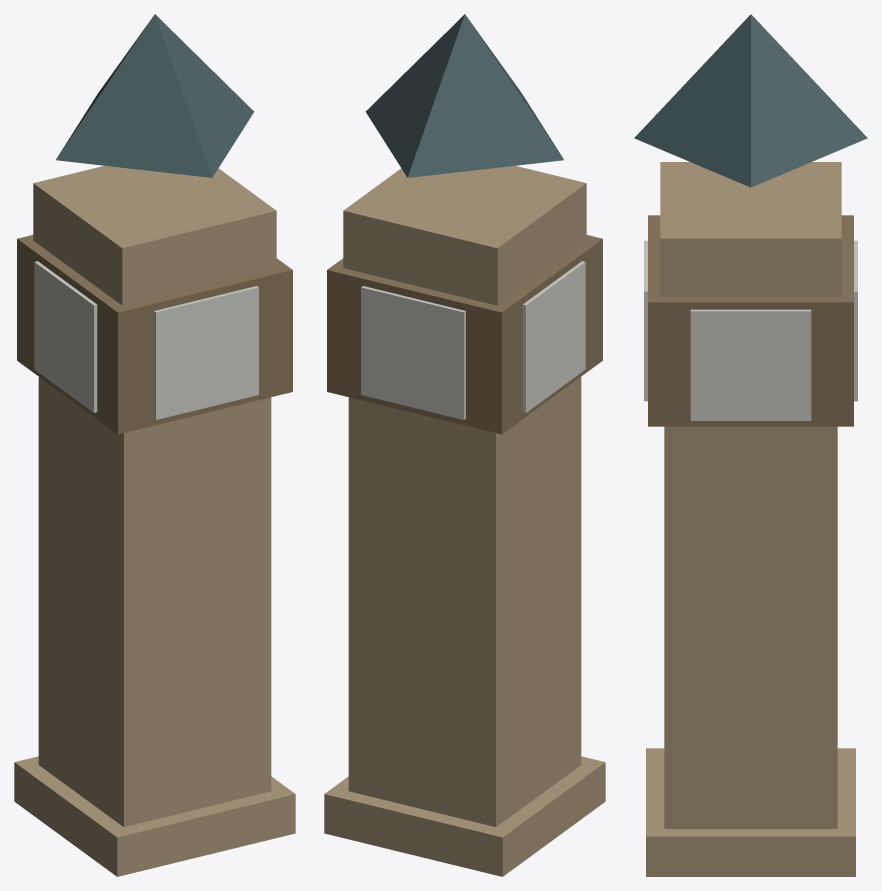
File: BigBen.glb
3 renders of one model, left to right at view 1: azimuth 30°, elevation 25°; view 2: azimuth 150°, elevation 25°; view 3: azimuth 270°, elevation 25°, orthographic.
Visible parts, largest first — view 1: Tower, Upper, Roof, ClockStage, Base, ClockFront, ClockLeft; view 2: Tower, Upper, Roof, ClockStage, Base, ClockBack, ClockLeft; view 3: Tower, Upper, Roof, ClockStage, ClockRight, Base, ClockFront, ClockBack.
Part boxes in pixels (bbox=[...]): Tower: bbox=[38, 377, 271, 826]; Upper: bbox=[33, 165, 276, 305]; Roof: bbox=[56, 14, 254, 177]; ClockStage: bbox=[17, 235, 292, 434]; Base: bbox=[14, 756, 295, 876]; ClockFront: bbox=[154, 286, 258, 419]; ClockLeft: bbox=[34, 261, 97, 412]; Tower: bbox=[348, 377, 581, 826]; Upper: bbox=[343, 165, 586, 305]; Roof: bbox=[365, 14, 563, 177]; ClockStage: bbox=[327, 235, 602, 434]; Base: bbox=[324, 756, 605, 876]; ClockBack: bbox=[361, 286, 465, 419]; ClockLeft: bbox=[522, 261, 585, 412]; Tower: bbox=[664, 426, 837, 828]; Upper: bbox=[660, 162, 841, 297]; Roof: bbox=[634, 14, 867, 187]; ClockStage: bbox=[648, 215, 853, 426]; ClockRight: bbox=[690, 309, 811, 420]; Base: bbox=[646, 748, 855, 876]; ClockFront: bbox=[644, 240, 647, 401]; ClockBack: bbox=[854, 240, 857, 401].
Bounding box in the file's own units: 2.9 × 11.2 × 2.9.
